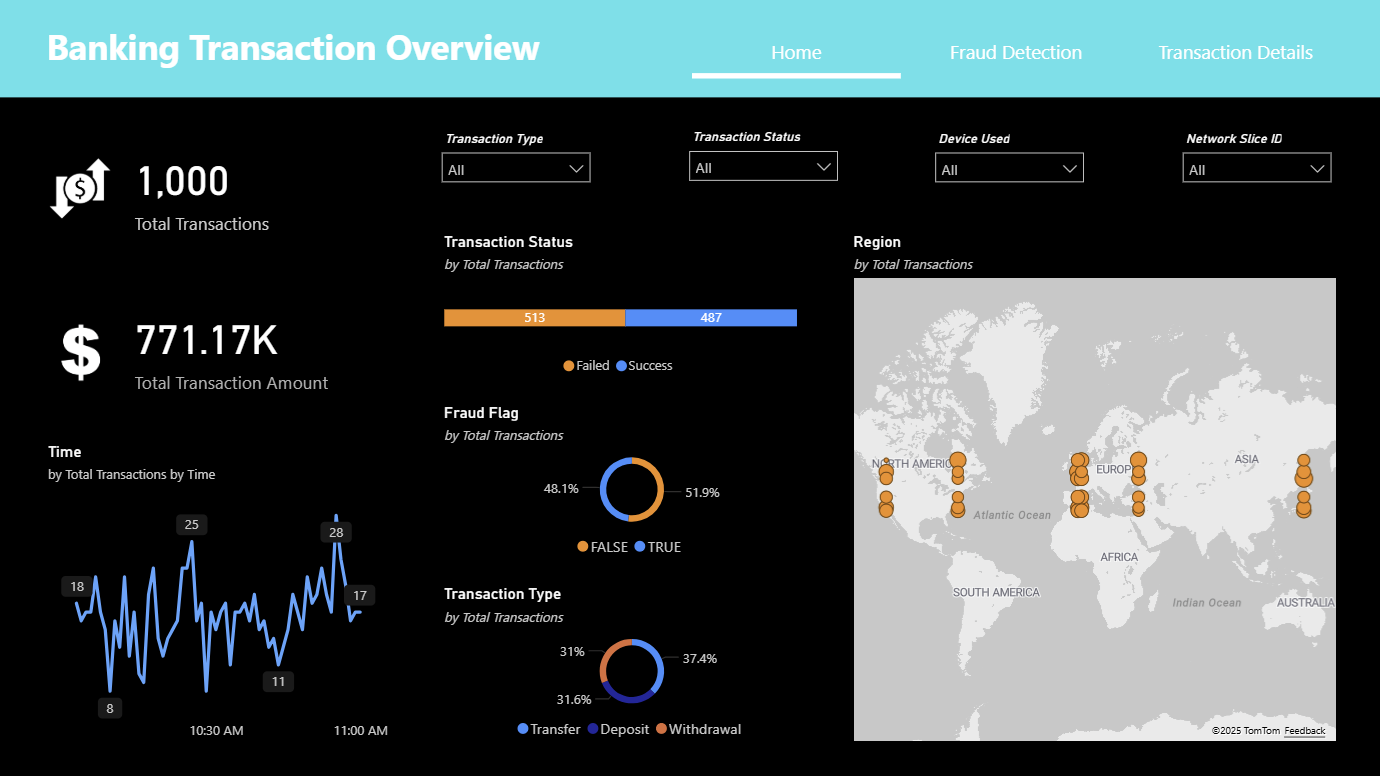

The page's visual inventory and layout, read from the dashboard file:
{"tool":"powerbi","page":{"name":"Home","canvas":[1280,720],"ordinal":0},"visuals":[{"type":"cardVisual","fields":{"Data":["bank transaction_data.Total Transactions"]},"box":[40,117.1,324.3,128.6],"z":0},{"type":"cardVisual","fields":{"Data":["bank transaction_data.Total Transaction Amount"]},"box":[40,262.9,324.3,128.6],"z":1000},{"type":"lineChart","title":"Time","fields":{"Y":["bank transaction_data.Total Transactions"],"Category":["bank transaction_data.Time"]},"box":[40,408.6,324.3,284.3],"z":2000},{"type":"barChart","title":"Transaction Status","fields":{"Y":["bank transaction_data.Total Transactions"],"Series":["bank transaction_data.Transaction Status"]},"box":[406.4,214.9,336.1,141.9],"z":3000},{"type":"donutChart","title":"Fraud Flag","fields":{"Y":["bank transaction_data.Total Transactions"],"Category":["bank transaction_data.Fraud Flag"]},"box":[406,373.4,356.9,151.3],"z":4000},{"type":"donutChart","title":"Transaction Type","fields":{"Y":["bank transaction_data.Total Transactions"],"Category":["bank transaction_data.Transaction Type"]},"box":[406.4,541.4,356.8,151.5],"z":5000},{"type":"azureMap","title":"Region","fields":{"Size":["bank transaction_data.Total Transactions"],"Y":["bank transaction_data.Latitude Value"],"X":["bank transaction_data.Longitude Value"]},"box":[785.2,214.9,456,475.3],"z":6000},{"type":"shape","box":[0,0,1280,90],"z":7000},{"type":"textbox","box":[39.5,14.8,504.9,65.8],"z":8000},{"type":"slicer","fields":{"Values":["bank transaction_data.Transaction Type"]},"box":[400,114.8,157,77.1],"z":9000},{"type":"slicer","fields":{"Values":["bank transaction_data.Transaction Status"]},"box":[628,114.3,157,77.1],"z":10000},{"type":"slicer","fields":{"Values":["bank transaction_data.Device Used"]},"box":[856.1,114.6,157,77.1],"z":11000},{"type":"slicer","fields":{"Values":["bank transaction_data.Network Slice ID"]},"box":[1084.2,114.5,157,77.1],"z":12000},{"type":"pageNavigator","box":[640.6,23.4,600.6,49.6],"z":13000}]}

Visuals, with their boxes in screenshot pixels (x1, y1, x2, y2), scaled from the page's 1280x720 canvas onto the 1380x776 screenshot:
cardVisual - bank transaction_data.Total Transactions: <region>43, 126, 393, 265</region>
cardVisual - bank transaction_data.Total Transaction Amount: <region>43, 283, 393, 422</region>
"Time" lineChart: <region>43, 440, 393, 747</region>
"Transaction Status" barChart: <region>438, 232, 801, 385</region>
"Fraud Flag" donutChart: <region>438, 402, 823, 566</region>
"Transaction Type" donutChart: <region>438, 584, 823, 747</region>
"Region" azureMap: <region>847, 232, 1338, 744</region>
shape: <region>0, 0, 1379, 97</region>
textbox: <region>43, 16, 587, 87</region>
slicer - bank transaction_data.Transaction Type: <region>431, 124, 601, 207</region>
slicer - bank transaction_data.Transaction Status: <region>677, 123, 846, 206</region>
slicer - bank transaction_data.Device Used: <region>923, 124, 1092, 207</region>
slicer - bank transaction_data.Network Slice ID: <region>1169, 123, 1338, 207</region>
pageNavigator: <region>691, 25, 1338, 79</region>
